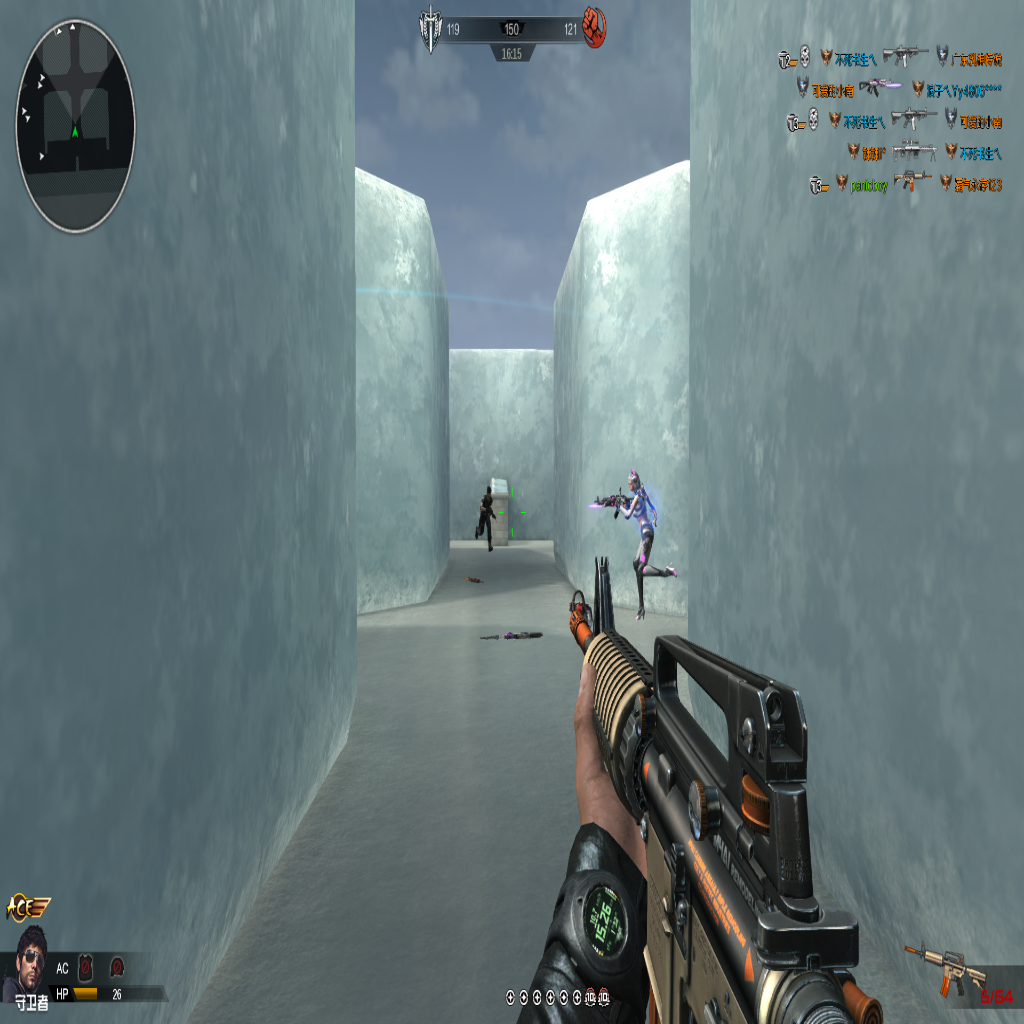ct: (476, 482, 498, 550)
tt: (603, 471, 663, 630)
